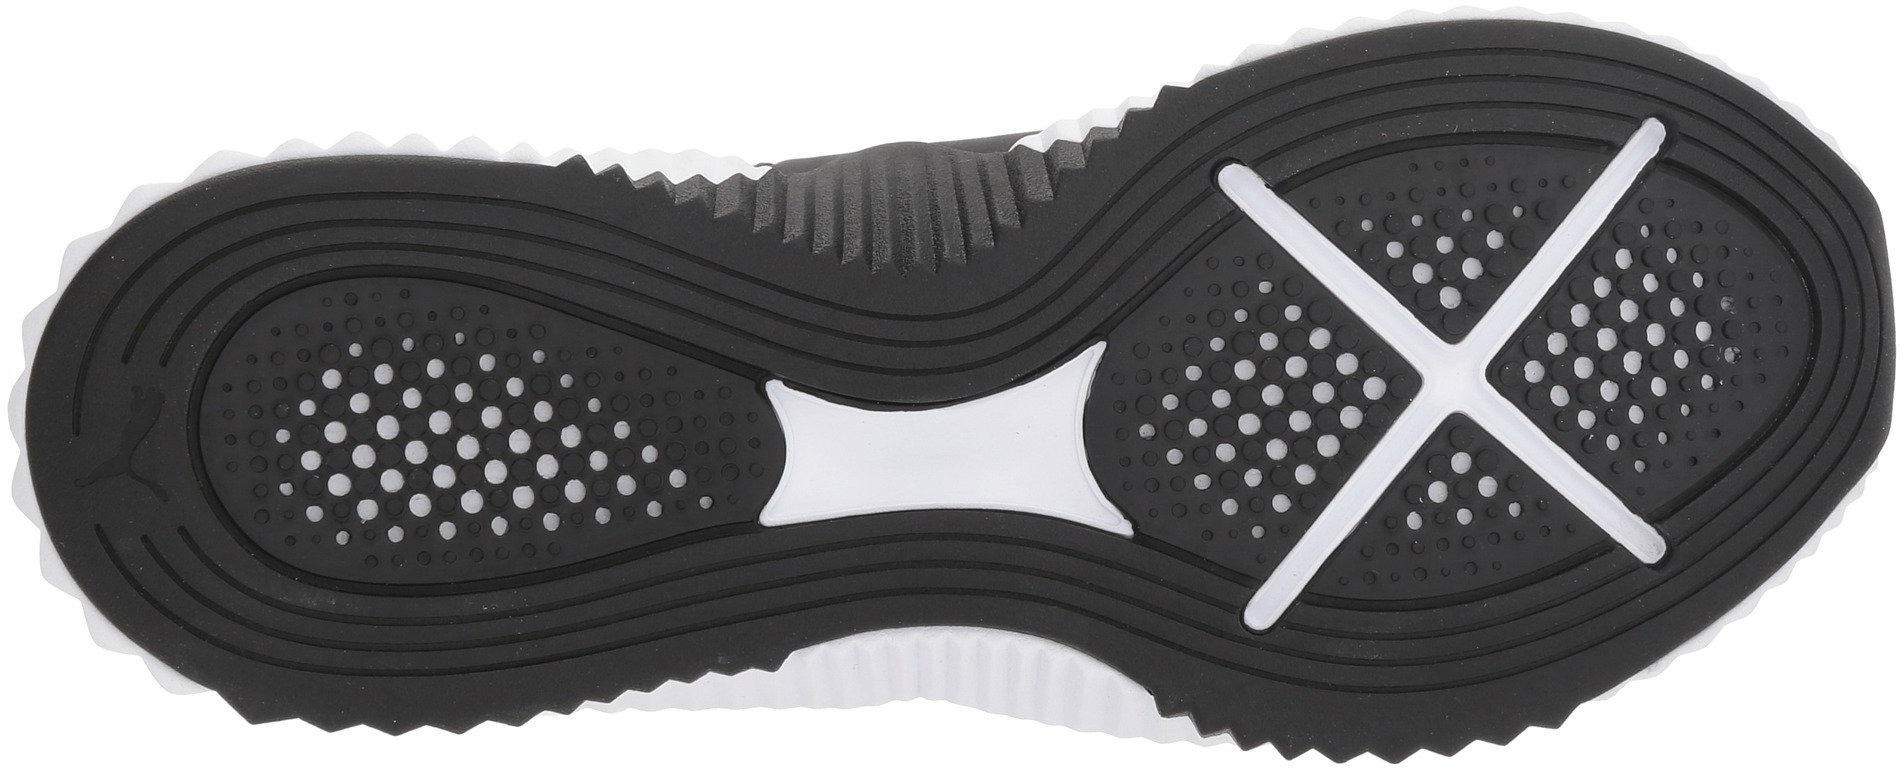circle: (257, 309, 509, 548), (1138, 298, 1328, 502), (518, 347, 696, 538), (1569, 270, 1753, 451), (1378, 177, 1513, 311), (1385, 469, 1529, 592)
line: (327, 594, 446, 699), (336, 166, 444, 262)
ribbon: (814, 352, 1037, 548), (1368, 306, 1535, 462)
